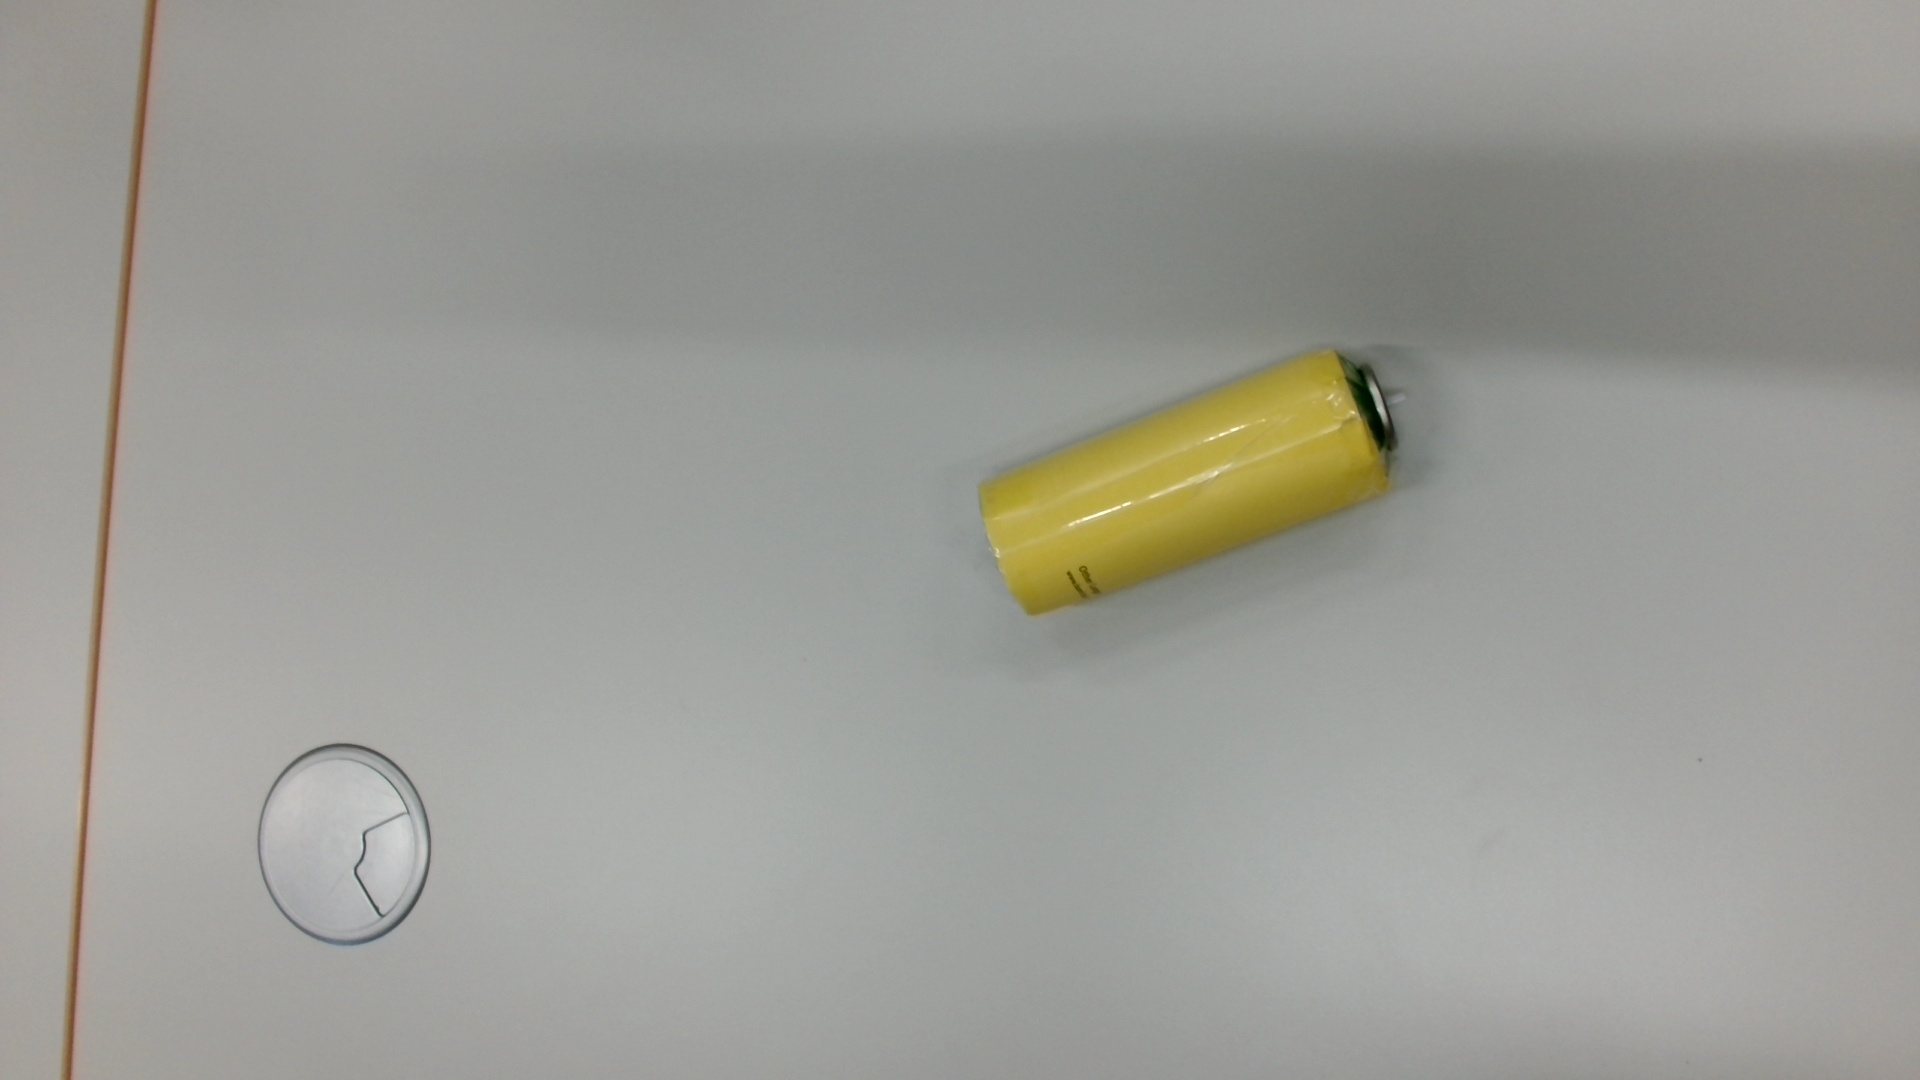Cylinder: (971, 340, 1422, 632)
